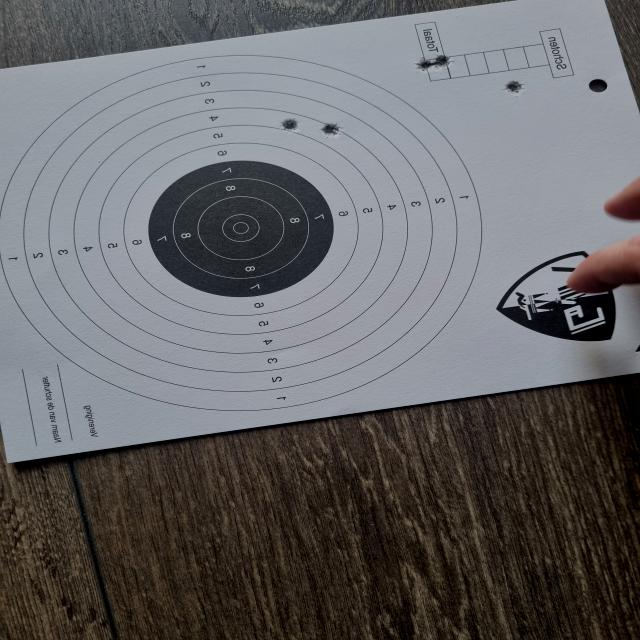0: (502, 81, 525, 94), (432, 55, 453, 67), (414, 59, 432, 71)
4: (320, 122, 342, 139)
5: (280, 118, 298, 134)
Target: (0, 54, 481, 413)
black_contour: (148, 162, 331, 299)
